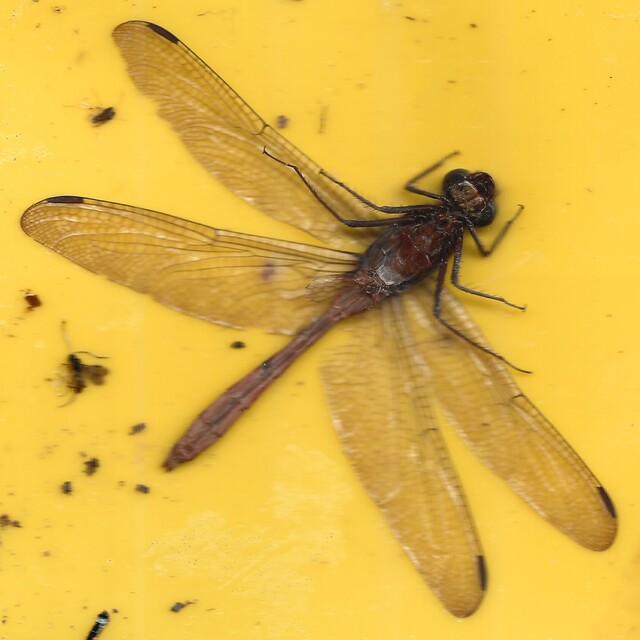Hymenoptera: (53, 320, 110, 406)
Odonata: (21, 20, 619, 620)
